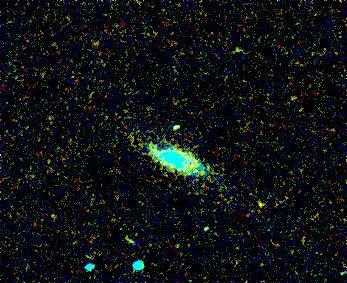star: (253, 191, 283, 221)
